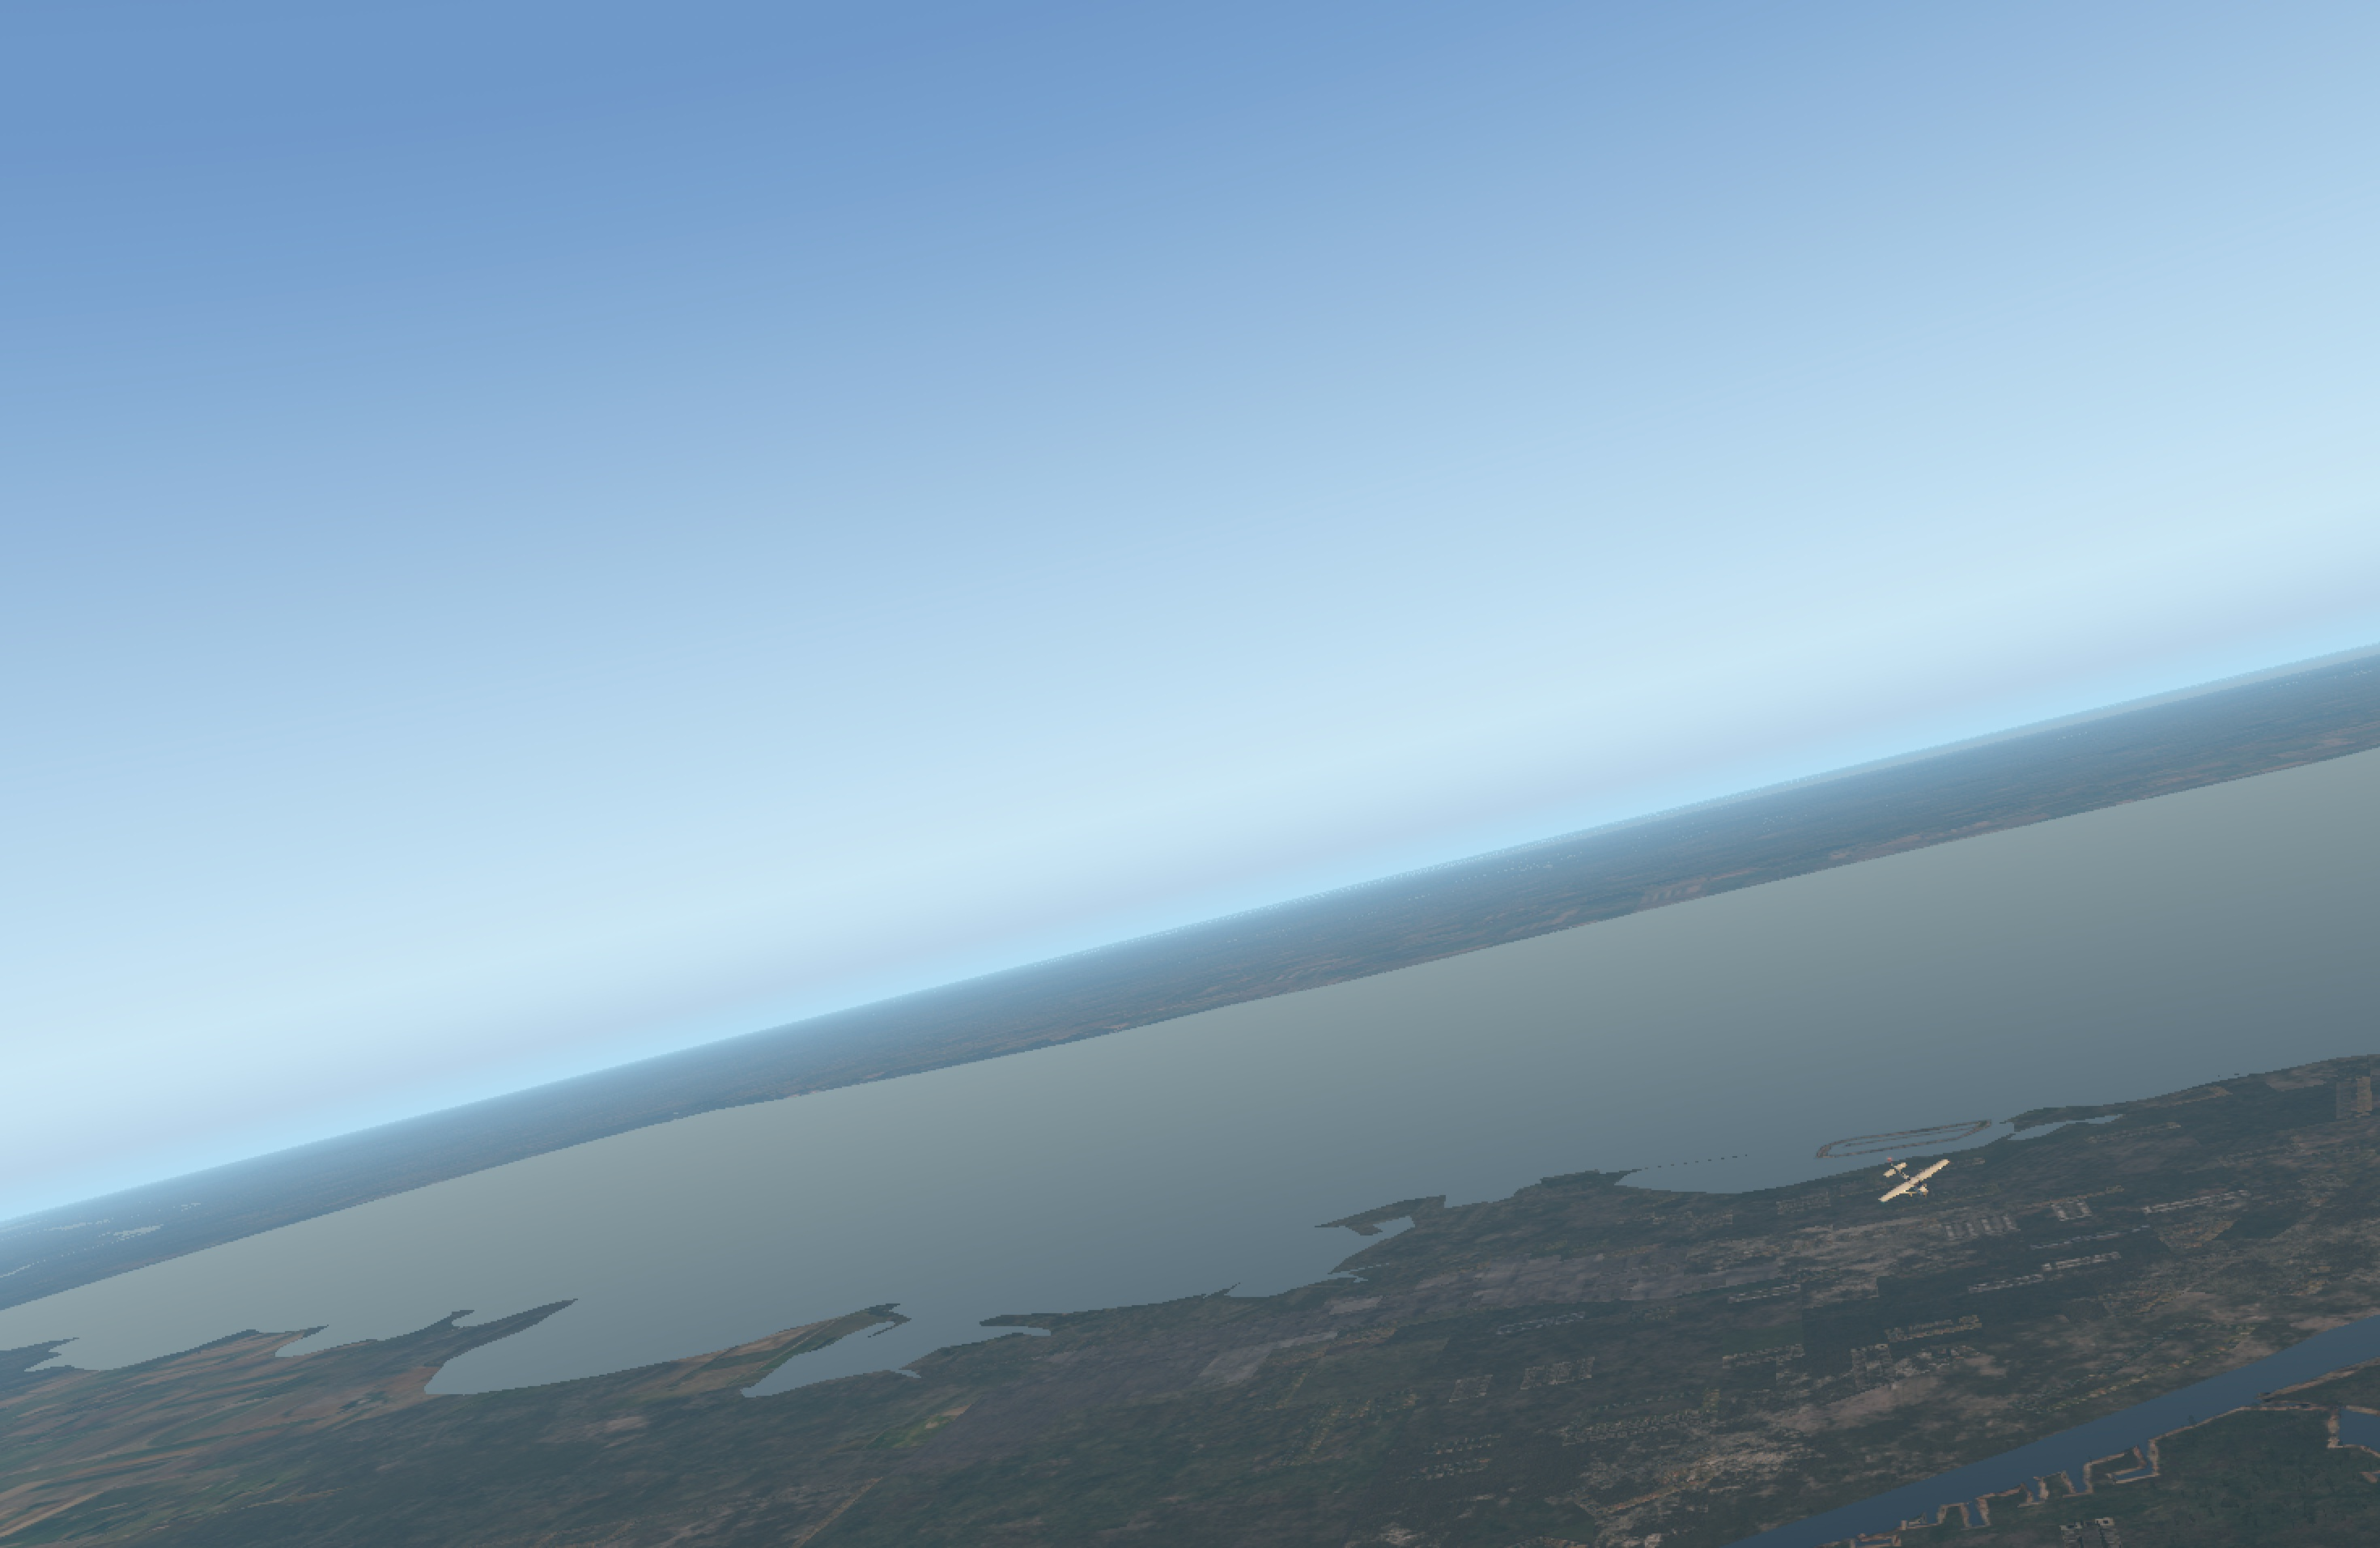aircraft: (1889, 1175, 1945, 1196)
